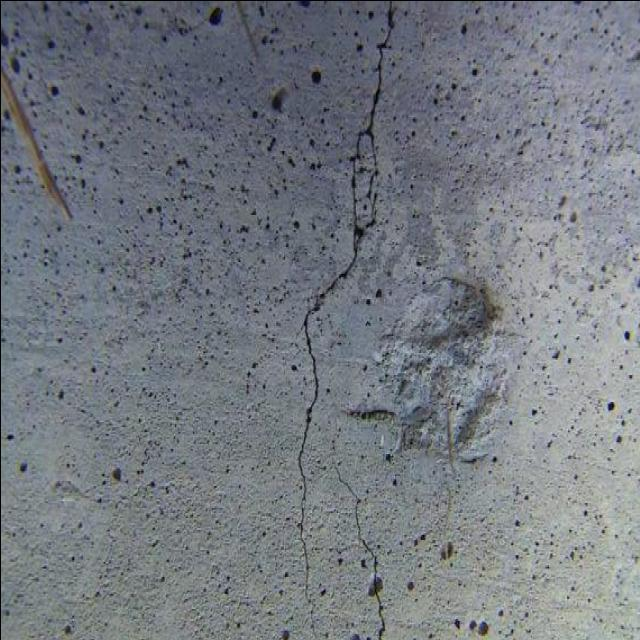wall_crack: (296, 0, 393, 640)
